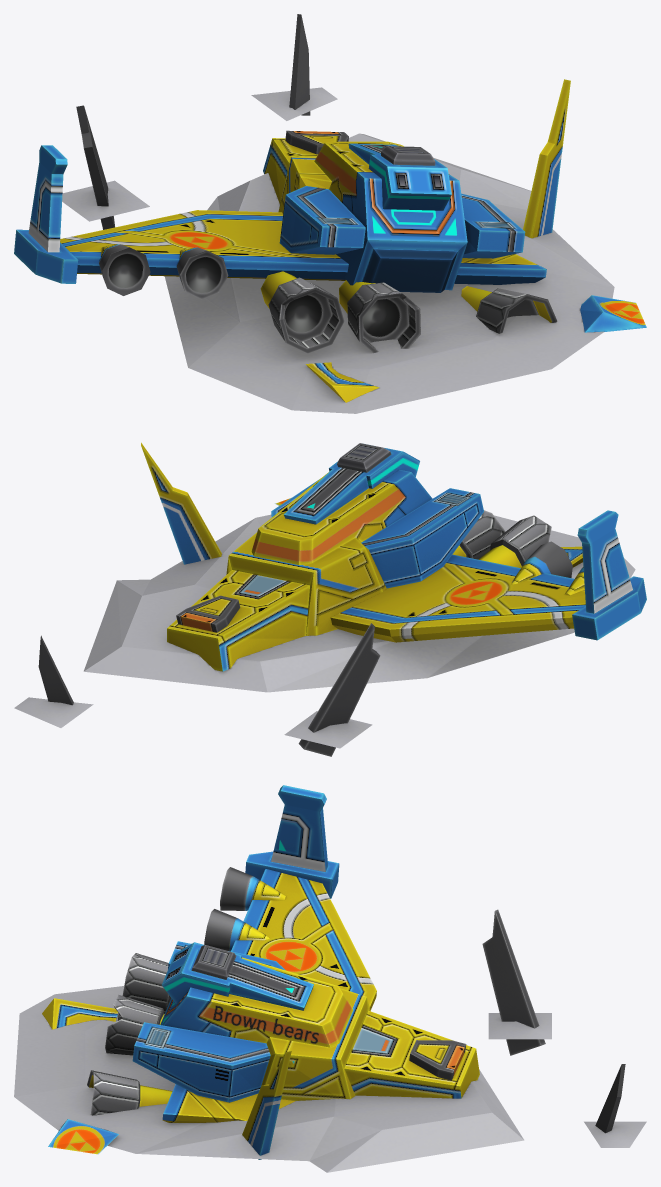
The model's file is feiji.FBX.
3 views of the same model, one above another, from view 1: azimuth 30°, elevation 25°; view 2: azimuth 150°, elevation 25°; view 3: azimuth 270°, elevation 25° (orthographic). The views are drawn at different scales.
Parts seen in each view (by area): view 1: fly; view 2: fly; view 3: fly.
Boxes of the visible parts, x1,y1,x2,y2 form: fly: [14, 14, 646, 413]; fly: [14, 442, 646, 756]; fly: [14, 785, 646, 1172].
Bounding box in the file's own units: 2051 × 777 × 2331.
